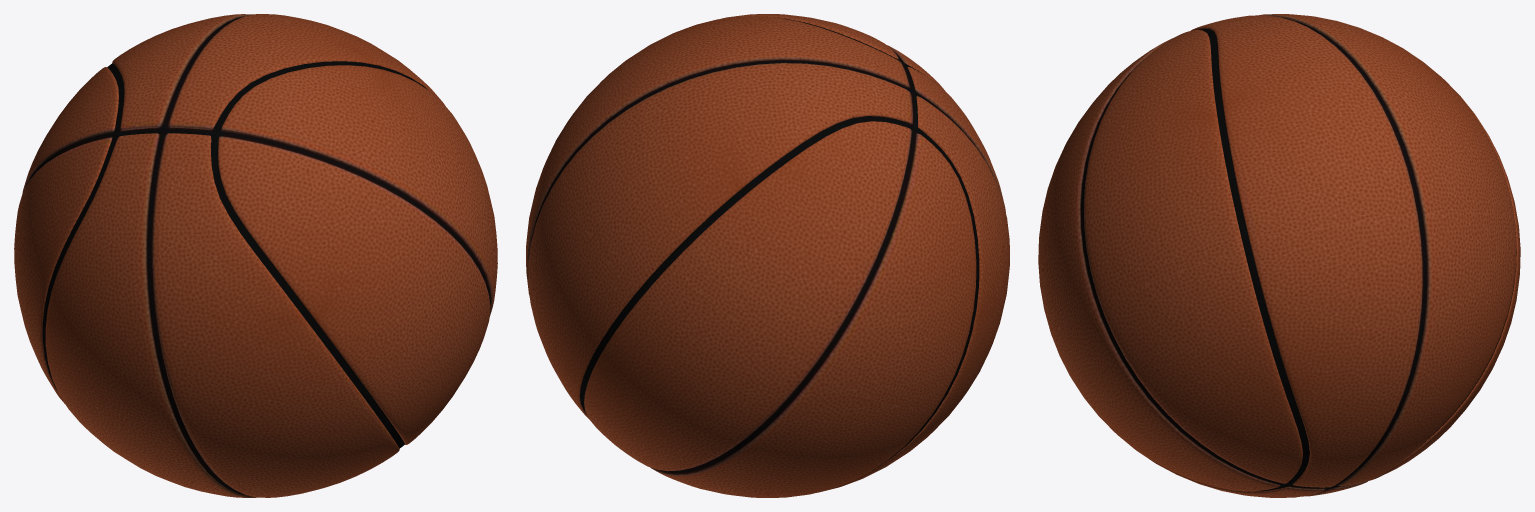
The model's file is ball.glb.
3 renders of one model, left to right at view 1: azimuth 30°, elevation 25°; view 2: azimuth 150°, elevation 25°; view 3: azimuth 270°, elevation 25°, orthographic.
Parts seen in each view (by area): view 1: GBL2_Ball_F; view 2: GBL2_Ball_F; view 3: GBL2_Ball_F.
Part boxes in pixels (bbox=[...]): GBL2_Ball_F: bbox=[14, 14, 497, 497]; GBL2_Ball_F: bbox=[526, 14, 1009, 497]; GBL2_Ball_F: bbox=[1038, 14, 1520, 497].
Bounding box in the file's own units: 0.2392 × 0.2392 × 0.2389.
1 material, 1 textured.
